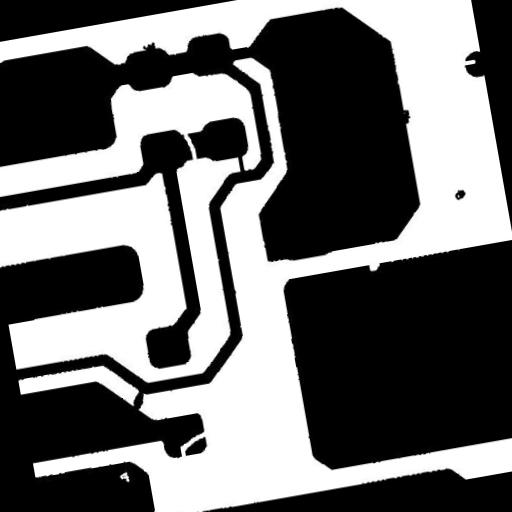copper: (445, 180, 474, 208)
mousebite: (360, 252, 388, 279), (453, 50, 482, 74)
open: (168, 421, 218, 467), (172, 120, 205, 170)
pin-hole: (110, 462, 138, 492)
short: (120, 378, 156, 418), (228, 141, 254, 182)
spur: (390, 100, 420, 132), (133, 32, 164, 60)
